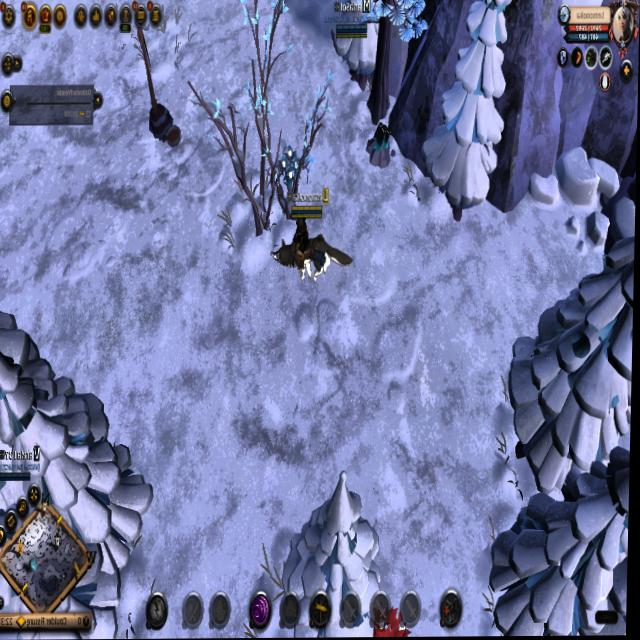fiber tier 4: (275, 140, 306, 194)
ore tier 4: (365, 119, 395, 171)
